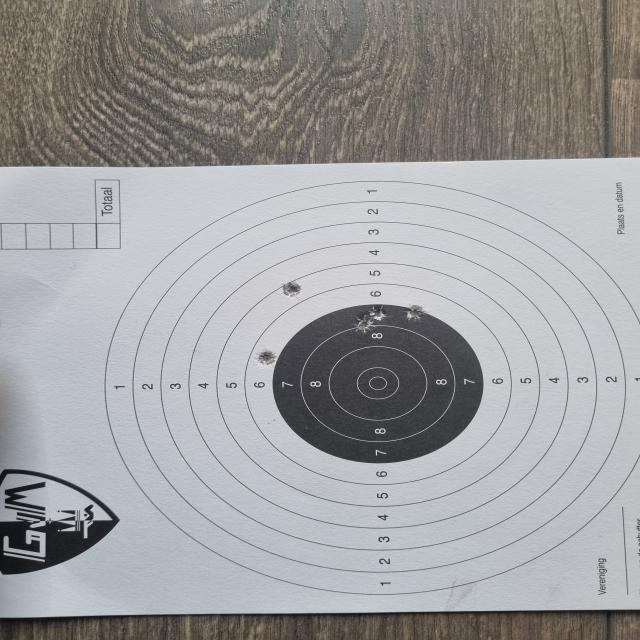6: (282, 282, 302, 300)
7: (257, 352, 278, 366)
8: (366, 304, 390, 322), (404, 306, 426, 320)
9: (354, 315, 376, 334)
Black Contour: (273, 304, 485, 464)
Target: (102, 178, 640, 595)
